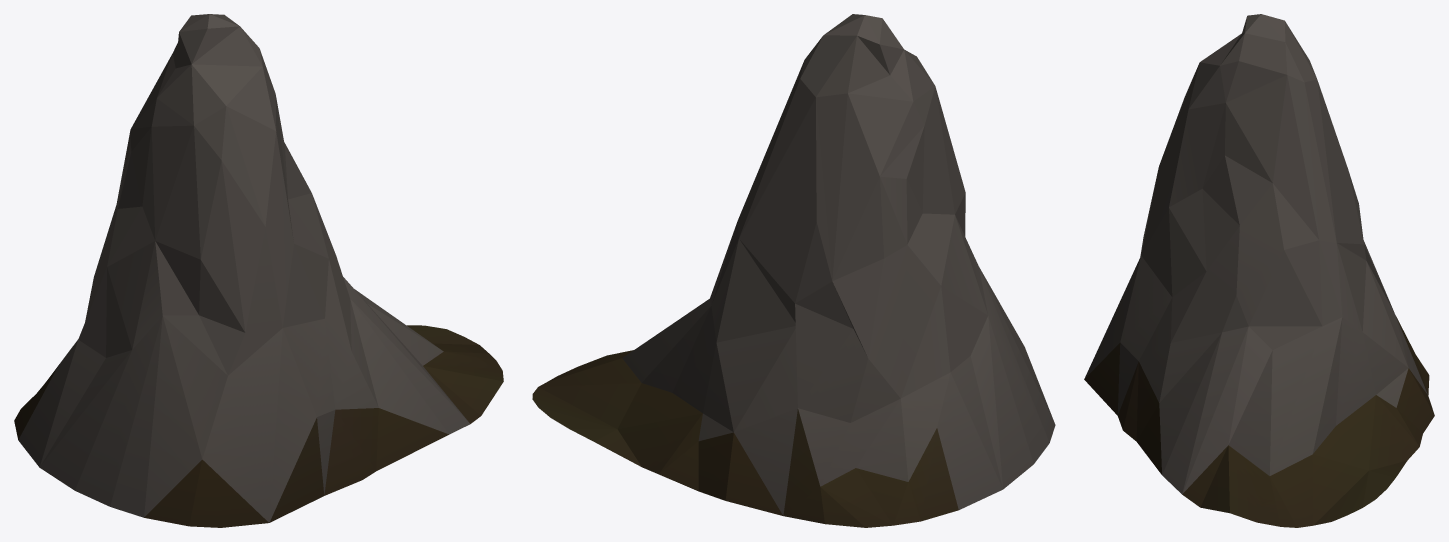
The model's file is decor-cendre-pic-0.glb.
3 views of the same model, side by side, from view 1: azimuth 30°, elevation 25°; view 2: azimuth 150°, elevation 25°; view 3: azimuth 270°, elevation 25° (orthographic). The views are drawn at different scales.
Visible parts, largest first — view 1: decor:cendre:pic:0; view 2: decor:cendre:pic:0; view 3: decor:cendre:pic:0.
Part boxes in pixels (bbox=[...]): decor:cendre:pic:0: bbox=[14, 14, 503, 527]; decor:cendre:pic:0: bbox=[532, 14, 1055, 527]; decor:cendre:pic:0: bbox=[1084, 14, 1434, 527].
Size of the model in its own units: 2.4 by 2.2 by 1.79.
